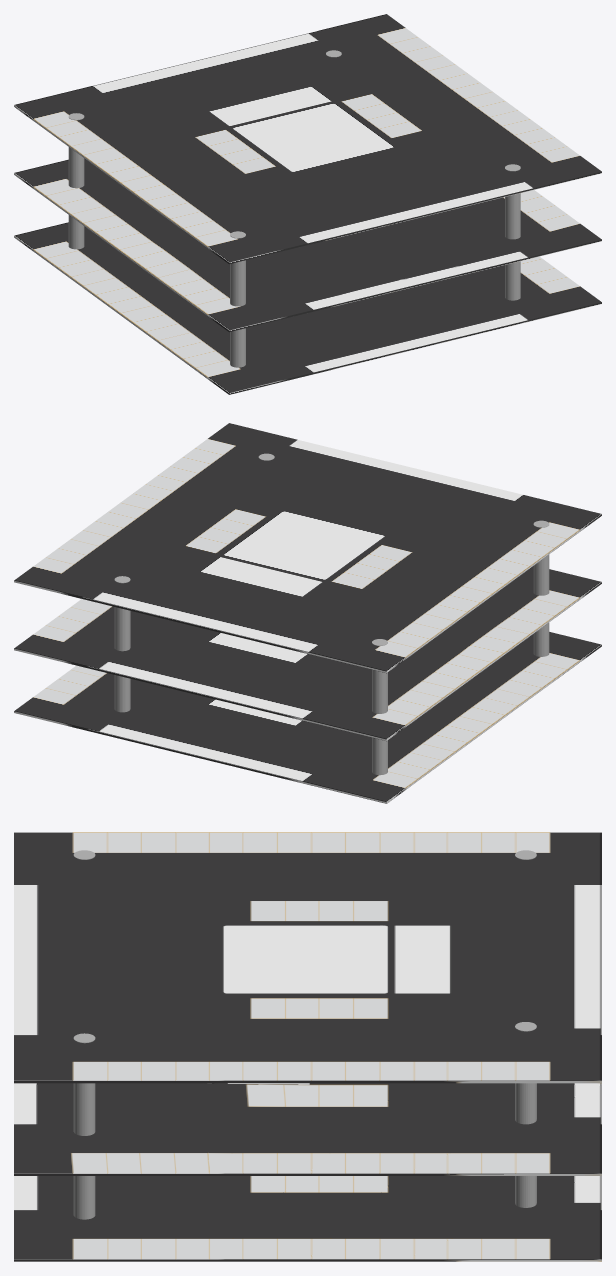
Rendered from Estacionamento.fbx.
3 renders of one model, top to bottom at view 1: azimuth 30°, elevation 25°; view 2: azimuth 150°, elevation 25°; view 3: azimuth 270°, elevation 25°, orthographic. The views are drawn at different scales.
Parts seen in each view (by area): view 1: Estacionamento; view 2: Estacionamento; view 3: Estacionamento.
Boxes of the visible parts, x1,y1,x2,y2 form: Estacionamento: [14, 14, 601, 394]; Estacionamento: [14, 423, 601, 803]; Estacionamento: [14, 832, 601, 1261].
Bounding box in the file's own units: 1574 × 536 × 1574.
